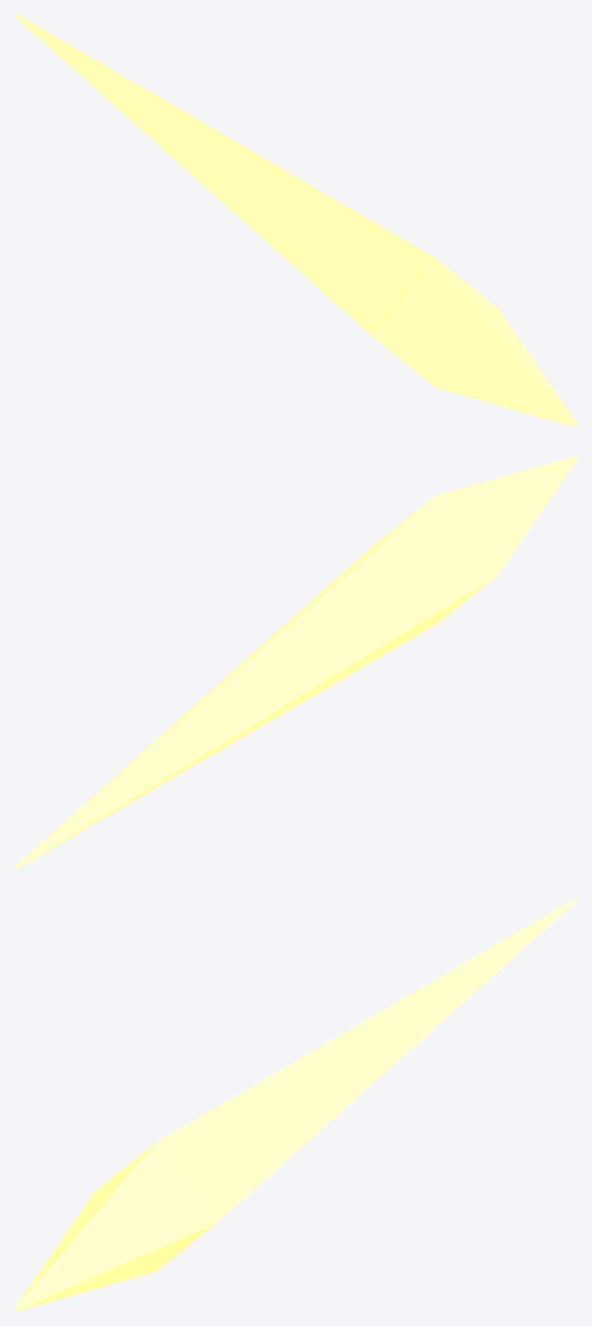
The model's file is SM_Tracer_Enemy.fbx.
3 renders of one model, top to bottom at view 1: azimuth 30°, elevation 25°; view 2: azimuth 150°, elevation 25°; view 3: azimuth 330°, elevation 25°, orthographic.
Parts seen in each view (by area): view 1: Tracer_Enemy; view 2: Tracer_Enemy; view 3: Tracer_Enemy.
Part boxes in pixels (box(x1,y1,x2,y2)): Tracer_Enemy: box(14, 14, 577, 427); Tracer_Enemy: box(14, 456, 577, 869); Tracer_Enemy: box(14, 898, 577, 1311).
Bounding box in the file's own units: 14 × 110 × 14.
